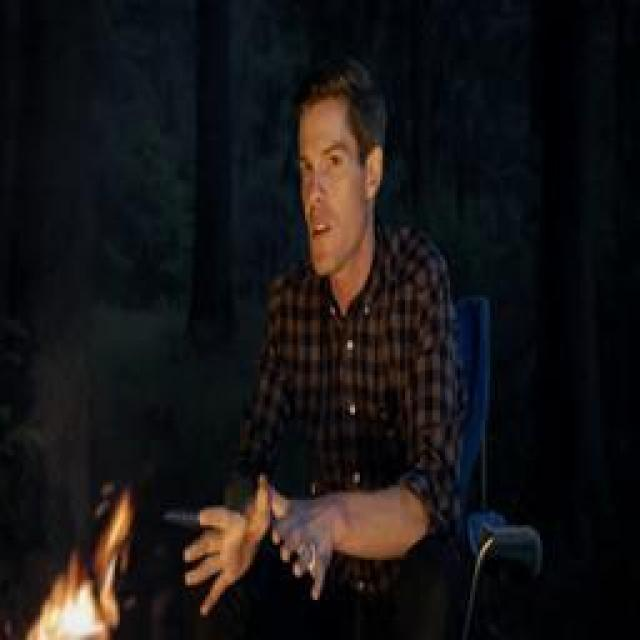Fire: (23, 492, 132, 640)
